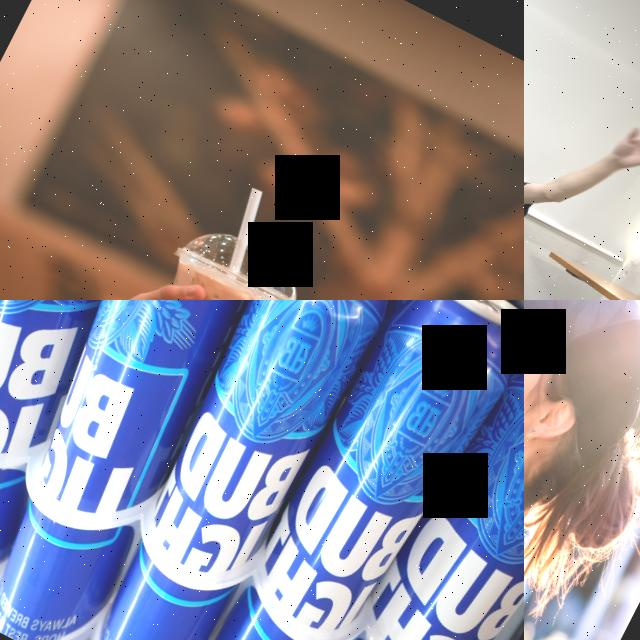can: (62, 300, 416, 640), (171, 300, 524, 640), (0, 300, 311, 640), (267, 300, 524, 640), (0, 300, 211, 620)
cup: (115, 211, 317, 300)
